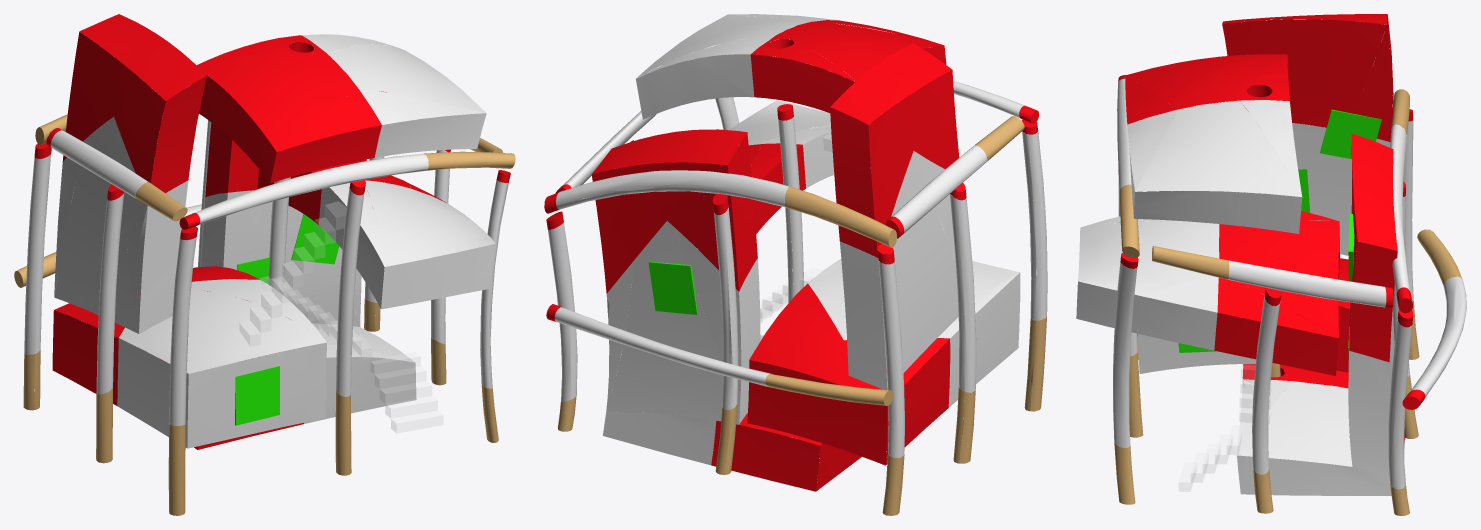
3 views of the same model, side by side, from view 1: azimuth 30°, elevation 25°; view 2: azimuth 150°, elevation 25°; view 3: azimuth 270°, elevation 25° (orthographic). The views are drawn at different scales.
Visible parts, largest first — view 1: BONUS GIFT -Museborough- 8 SLOTS; view 2: BONUS GIFT -Museborough- 8 SLOTS; view 3: BONUS GIFT -Museborough- 8 SLOTS.
Part boxes in pixels (x1,y1,x2,y2): BONUS GIFT -Museborough- 8 SLOTS: (14,14,515,515); BONUS GIFT -Museborough- 8 SLOTS: (544,14,1047,515); BONUS GIFT -Museborough- 8 SLOTS: (1076,14,1466,515).
Size of the model in its own units: 30.85 by 31.9 by 30.25.
